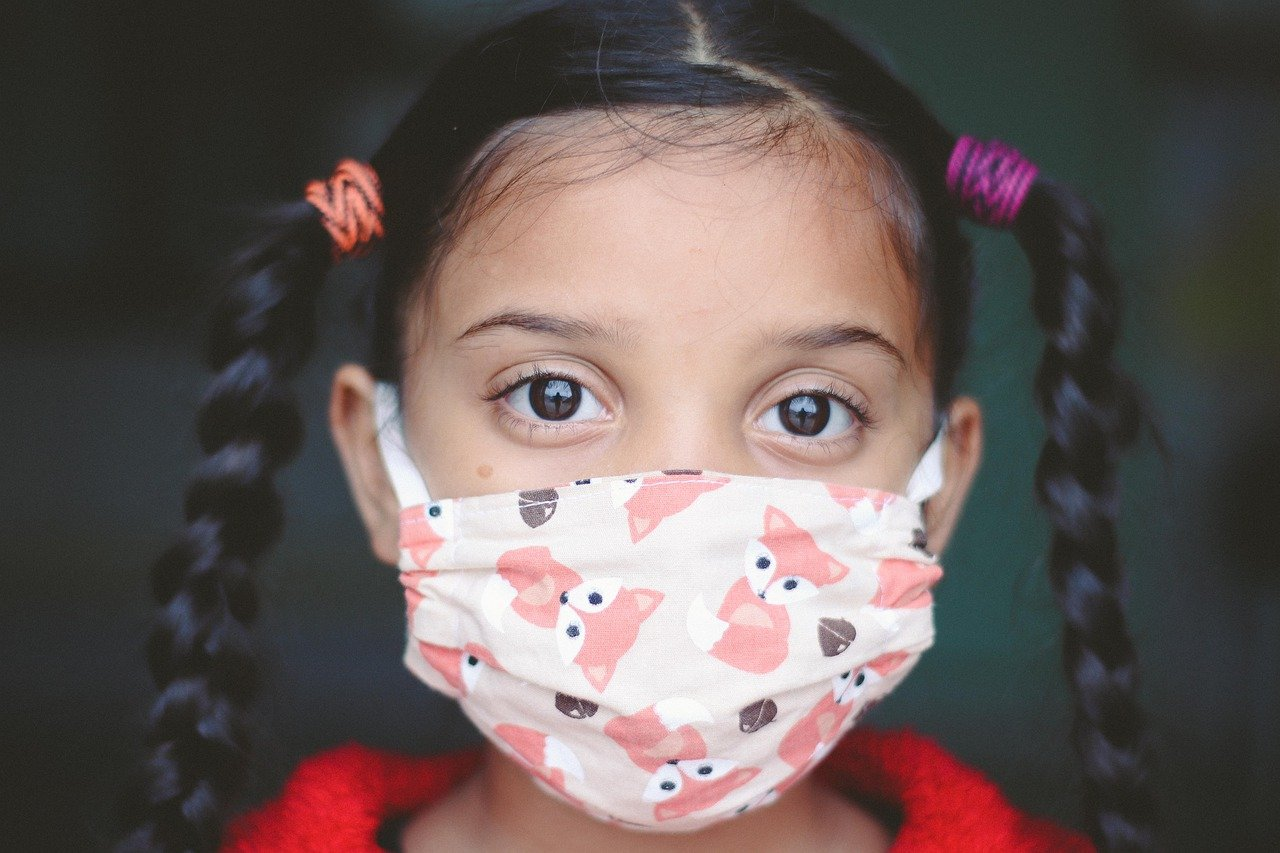with_mask: (420, 218, 910, 685)
